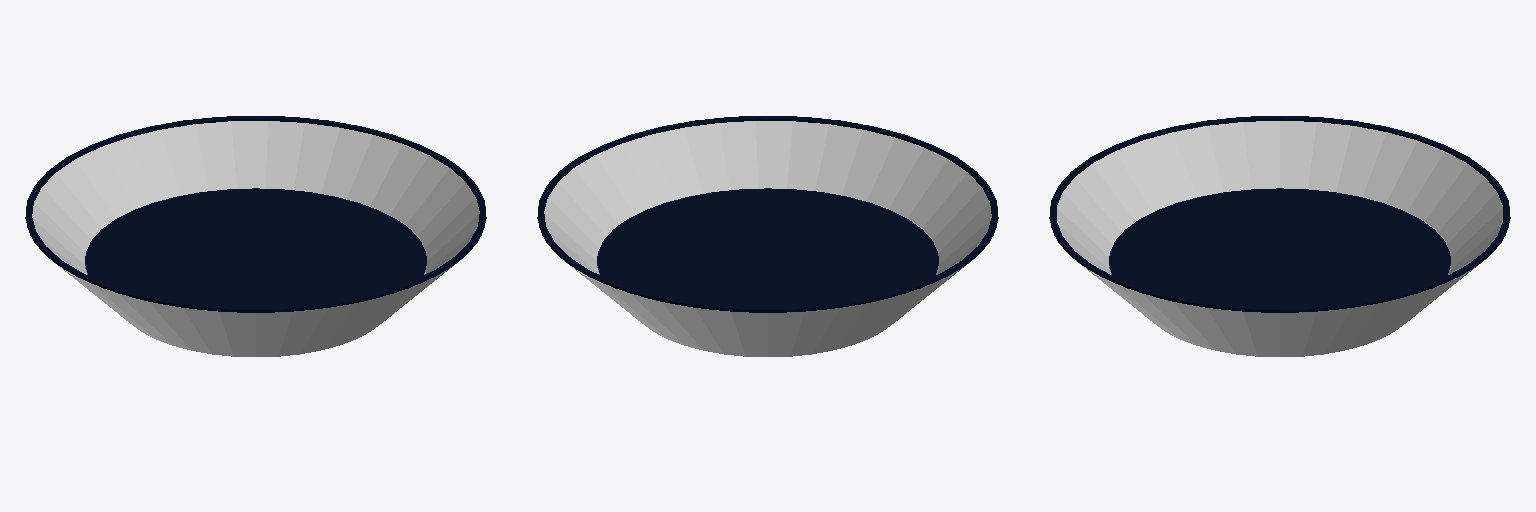
Rendered from plate.obj.
The picture shows the model from 3 angles: view 1: azimuth 30°, elevation 25°; view 2: azimuth 150°, elevation 25°; view 3: azimuth 270°, elevation 25°; orthographic projection.
Parts seen in each view (by area): view 1: plate_org; view 2: plate_org; view 3: plate_org.
Part boxes in pixels (bbox=[...]): plate_org: bbox=[25, 116, 486, 356]; plate_org: bbox=[537, 116, 998, 356]; plate_org: bbox=[1049, 116, 1510, 356].
Size of the model in its own units: 0.175 by 0.036 by 0.1749.